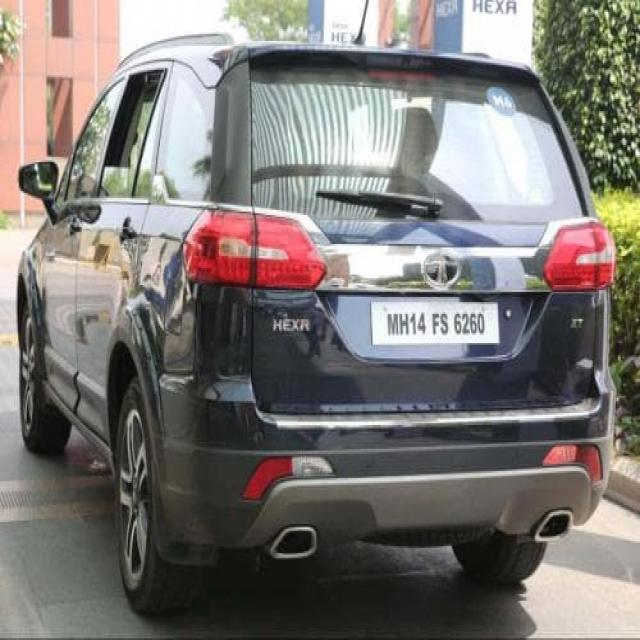Car: (19, 24, 629, 596)
